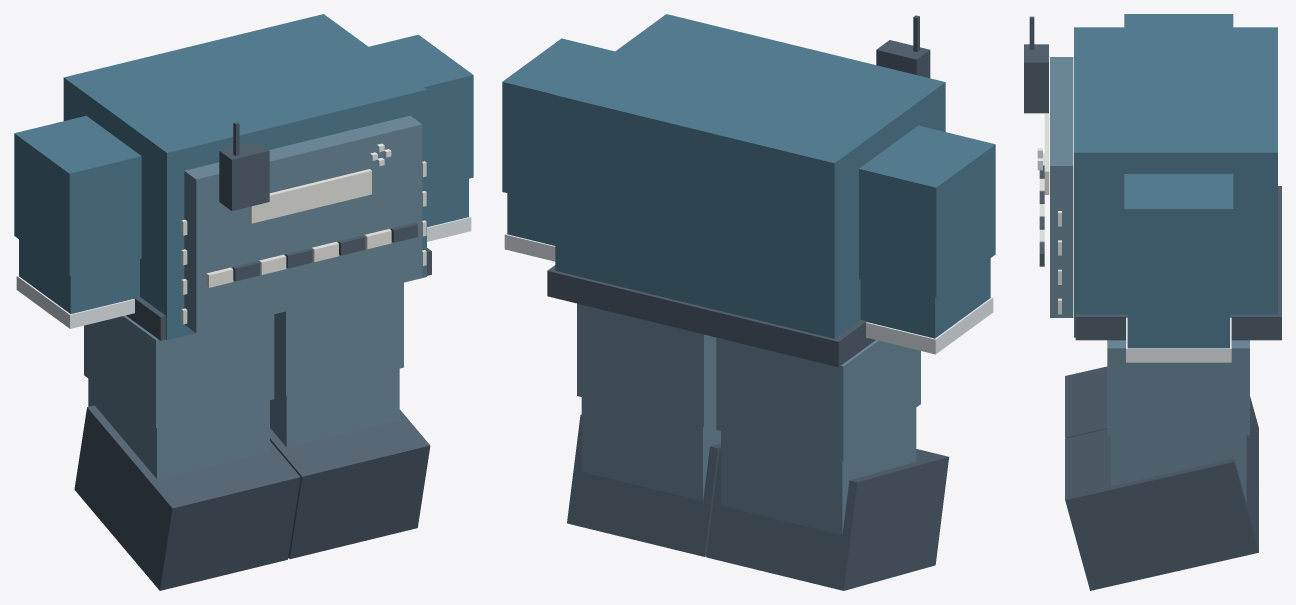
File: police-sky.glb
3 views of the same model, side by side, from view 1: azimuth 30°, elevation 25°; view 2: azimuth 150°, elevation 25°; view 3: azimuth 270°, elevation 25° (orthographic). The views are drawn at different scales.
Visible parts, largest first — view 1: jacket, duty-vest, shoe-Right, upper-sleeve-Right, trouser-Right, shoe-Left, trouser-Left, lower-trouser-Right, upper-sleeve-Left, lower-trouser-Left, lower-sleeve-Right, vest-label (+5 smaller); view 2: jacket, upper-sleeve-Right, shoe-Right, trouser-Right, trouser-Left, lower-trouser-Right, lower-trouser-Left, duty-belt, upper-sleeve-Left, shoe-Left, lower-sleeve-Right, cuff-Right (+3 smaller); view 3: jacket, shoe-Left, upper-sleeve-Left, trouser-Left, duty-vest, lower-trouser-Left, lower-sleeve-Left, shoe-Right, duty-belt, radio, cuff-Left, upper-sleeve-Right (+1 smaller).
Boxes of the visible parts, left/top/right/bottom form: jacket: left=63, top=14, right=426, bottom=340; duty-vest: left=184, top=115, right=422, bottom=333; shoe-Right: left=74, top=405, right=300, bottom=590; upper-sleeve-Right: left=14, top=115, right=141, bottom=276; trouser-Right: left=84, top=314, right=274, bottom=427; shoe-Left: left=270, top=409, right=430, bottom=558; trouser-Left: left=274, top=282, right=403, bottom=396; lower-trouser-Right: left=88, top=379, right=269, bottom=478; upper-sleeve-Left: left=369, top=34, right=473, bottom=188; lower-trouser-Left: left=270, top=368, right=399, bottom=447; lower-sleeve-Right: left=19, top=239, right=139, bottom=313; vest-label: left=249, top=169, right=371, bottom=223; jacket: left=555, top=14, right=945, bottom=338; upper-sleeve-Right: left=859, top=125, right=995, bottom=297; shoe-Right: left=706, top=448, right=948, bottom=590; trouser-Right: left=716, top=337, right=920, bottom=460; trouser-Left: left=577, top=303, right=716, bottom=426; lower-trouser-Right: left=721, top=408, right=916, bottom=534; lower-trouser-Left: left=581, top=397, right=720, bottom=501; duty-belt: left=547, top=265, right=875, bottom=367; upper-sleeve-Left: left=502, top=38, right=614, bottom=204; shoe-Left: left=567, top=414, right=720, bottom=556; lower-sleeve-Right: left=860, top=258, right=990, bottom=338; cuff-Right: left=866, top=297, right=993, bottom=354; jacket: left=1074, top=27, right=1277, bottom=337; shoe-Left: left=1065, top=429, right=1258, bottom=590; upper-sleeve-Left: left=1124, top=174, right=1233, bottom=309; trouser-Left: left=1107, top=340, right=1249, bottom=435; duty-vest: left=1050, top=57, right=1073, bottom=317; lower-trouser-Left: left=1111, top=435, right=1246, bottom=503; lower-sleeve-Left: left=1127, top=310, right=1229, bottom=348; shoe-Right: left=1065, top=366, right=1258, bottom=489; duty-belt: left=1075, top=186, right=1281, bottom=340; radio: left=1024, top=44, right=1048, bottom=113; cuff-Left: left=1126, top=317, right=1231, bottom=362; upper-sleeve-Right: left=1124, top=14, right=1233, bottom=27.
Size of the model in its own units: 1.07 by 1.21 by 0.6.
